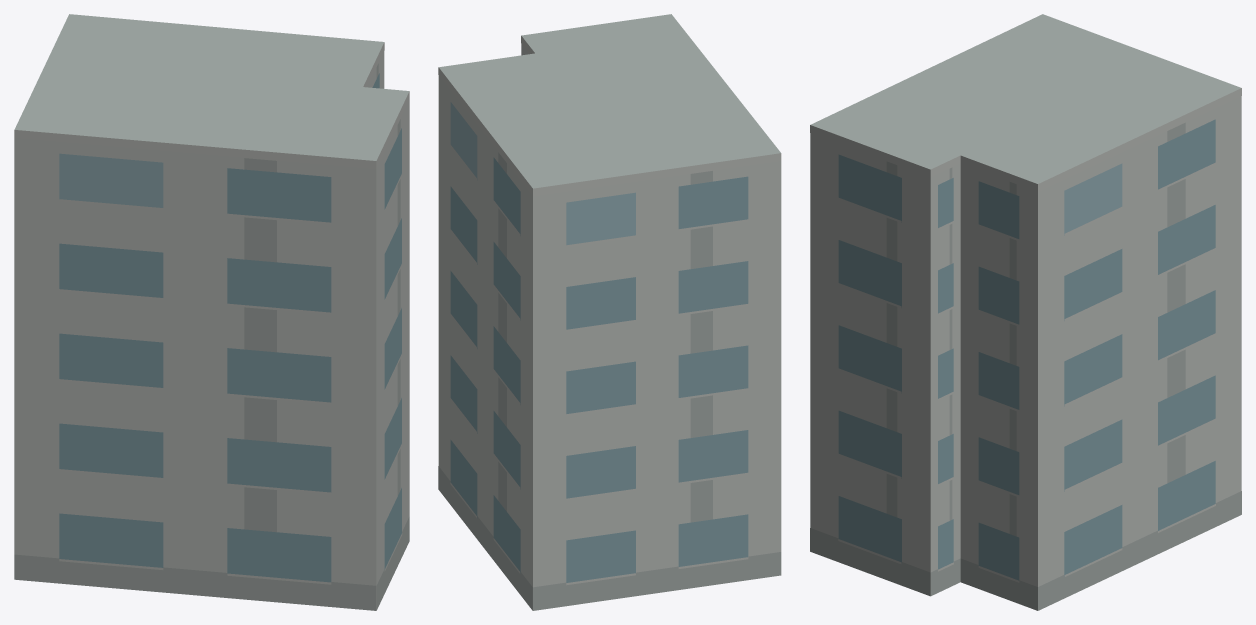
Rendered from survey-upis-32722286.glb.
3 views of the same model, side by side, from view 1: azimuth 30°, elevation 25°; view 2: azimuth 150°, elevation 25°; view 3: azimuth 270°, elevation 25° (orthographic). The views are drawn at different scales.
Visible parts, largest first — view 1: survey-upis-32722286.tmp; view 2: survey-upis-32722286.tmp; view 3: survey-upis-32722286.tmp.
Boxes of the visible parts, box(x1,y1,x2,y2) form: survey-upis-32722286.tmp: box(14, 14, 409, 610); survey-upis-32722286.tmp: box(438, 14, 781, 610); survey-upis-32722286.tmp: box(810, 14, 1241, 610).
Size of the model in its own units: 11.12 by 13 by 11.92.
